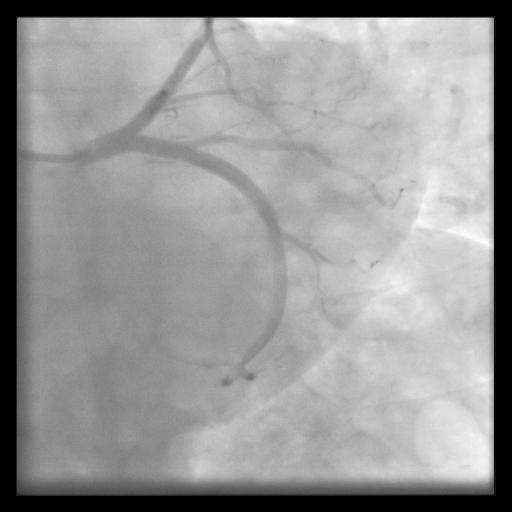Stenosis: (194, 130, 250, 147)
